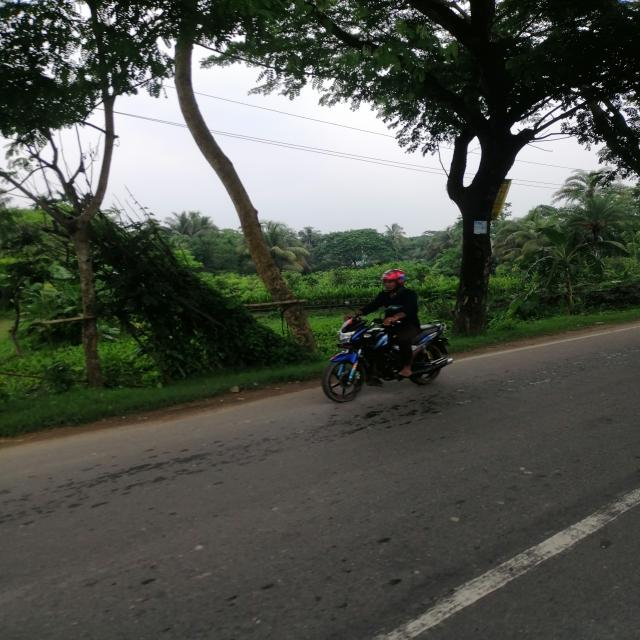Motorbike: (319, 309, 458, 409)
